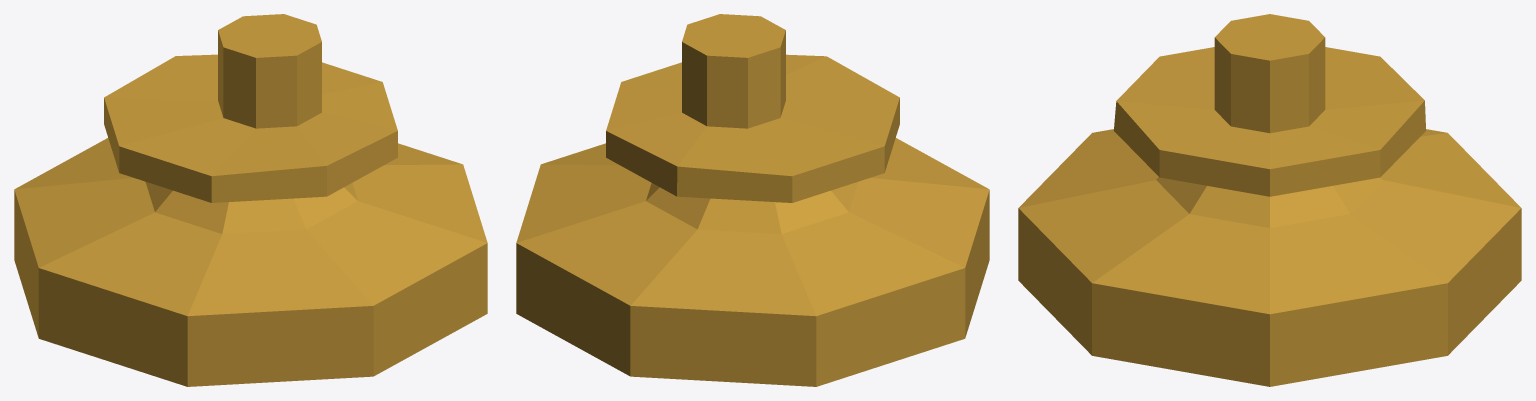
The model's file is tower.obj.
The picture shows the model from 3 angles, left to right: view 1: azimuth 30°, elevation 25°; view 2: azimuth 150°, elevation 25°; view 3: azimuth 270°, elevation 25°; orthographic projection. The views are drawn at different scales.
Visible parts, largest first — view 1: Cylinder; view 2: Cylinder; view 3: Cylinder.
Part boxes in pixels (box(x1,y1,x2,y2)): Cylinder: box(14, 14, 487, 386); Cylinder: box(516, 14, 989, 386); Cylinder: box(1018, 14, 1521, 386).
Size of the model in its own units: 5.92 by 3.28 by 5.92.
